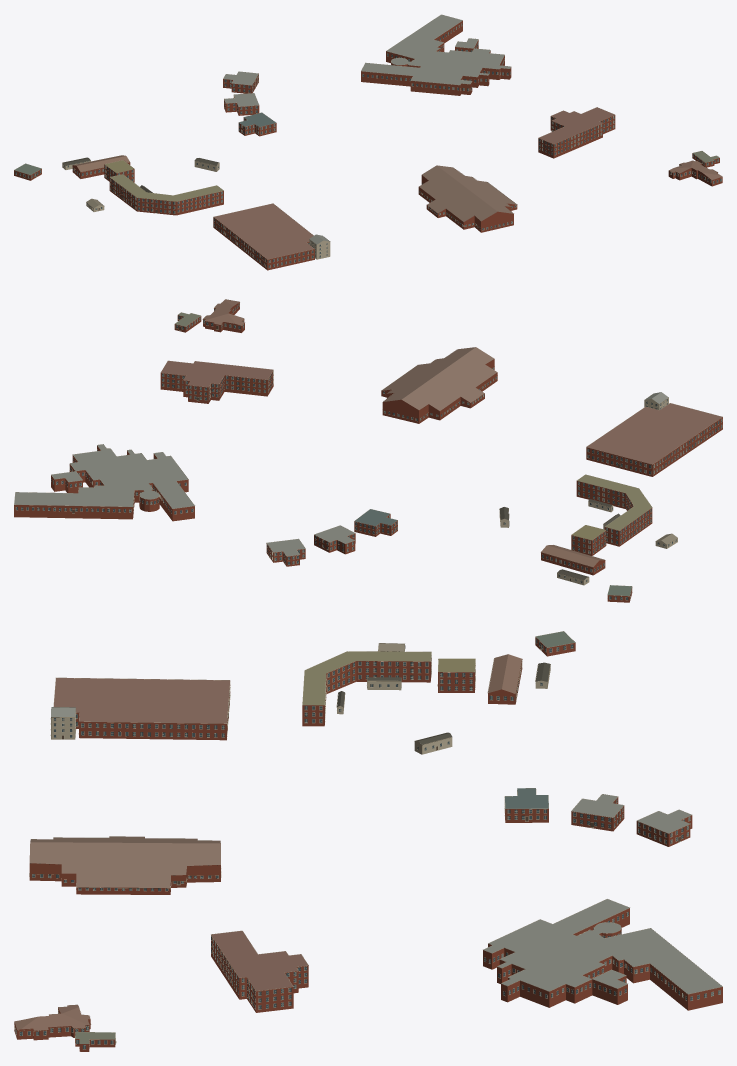
3 views of the same model, one above another, from view 1: azimuth 30°, elevation 25°; view 2: azimuth 150°, elevation 25°; view 3: azimuth 270°, elevation 25° (orthographic). The views are drawn at different scales.
Visible parts, largest first — view 1: -5_1_271772894_0, -5_1_271773859_3; view 2: -5_1_271772894_0, -5_1_271773859_3; view 3: -5_1_271772894_0, -5_1_271773859_3.
Part boxes in pixels (<box>): -5_1_271772894_0: <box>14,14,722,270</box>; -5_1_271773859_3: <box>62,160,330,259</box>; -5_1_271772894_0: <box>14,299,722,602</box>; -5_1_271773859_3: <box>499,397,677,585</box>; -5_1_271772894_0: <box>14,631,722,1051</box>; -5_1_271773859_3: <box>51,644,550,754</box>.
Size of the model in its own units: 519 by 26.37 by 383.
